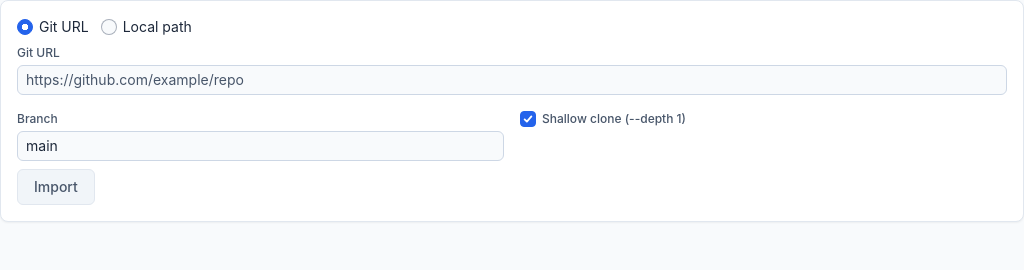
Test: SourceRepoField — In-place sub-mode locked to Storage root › Isolated sub-mode keeps the editable path input
Click the radio button labelled "Local path": point(109, 27) [101,19,117,35]
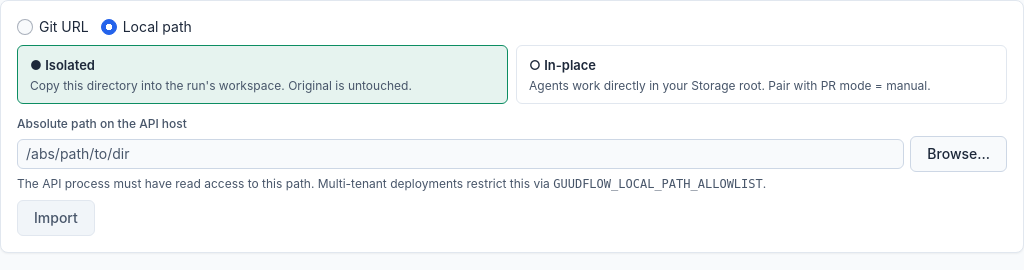
Expected: the field with placeholder "/abs/path/to/dir" is shown, [17,138,904,168]
